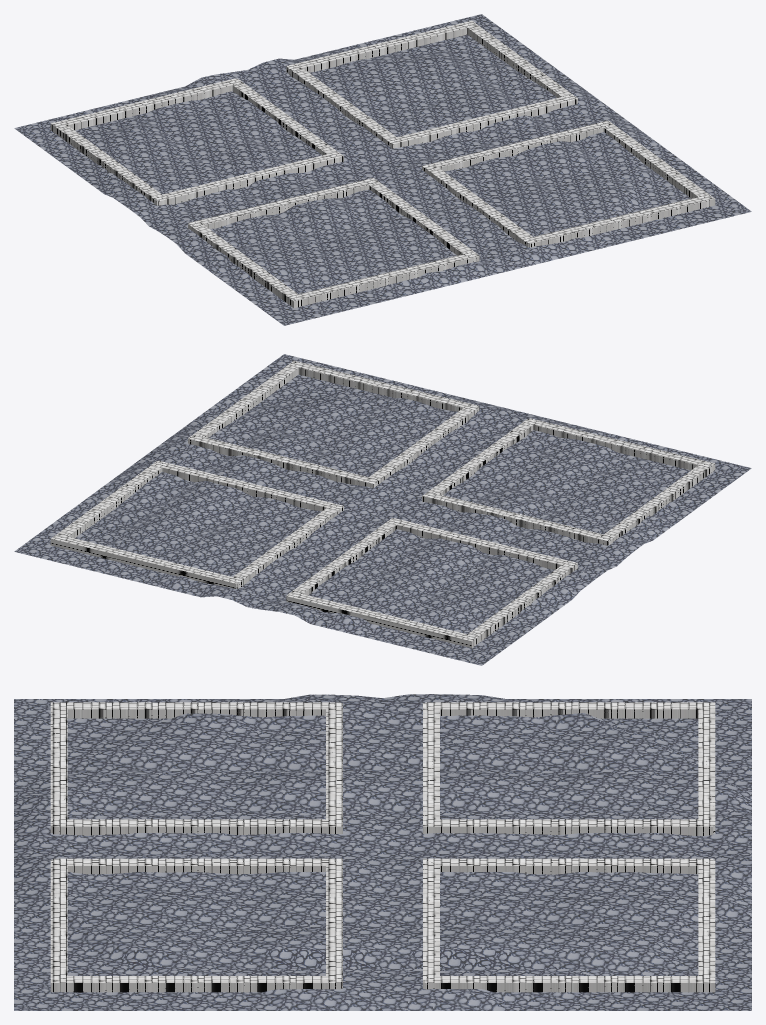
The model's file is townbase.fbx.
3 views of the same model, one above another, from view 1: azimuth 30°, elevation 25°; view 2: azimuth 150°, elevation 25°; view 3: azimuth 270°, elevation 25° (orthographic). The views are drawn at different scales.
Visible parts, largest first — view 1: pCube4; view 2: pCube4; view 3: pCube4.
Boxes of the visible parts, x1,y1,x2,y2 form: pCube4: (14, 14, 751, 325); pCube4: (14, 354, 751, 665); pCube4: (14, 694, 751, 1010).
Bounding box in the file's own units: 86.13 × 1.58 × 86.13.
Materials: 2 (2 with a texture image).
